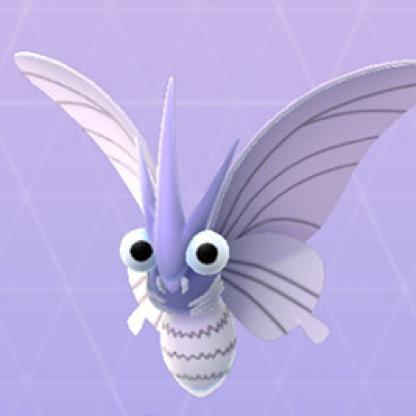Venomoth: (1, 30, 416, 400)
